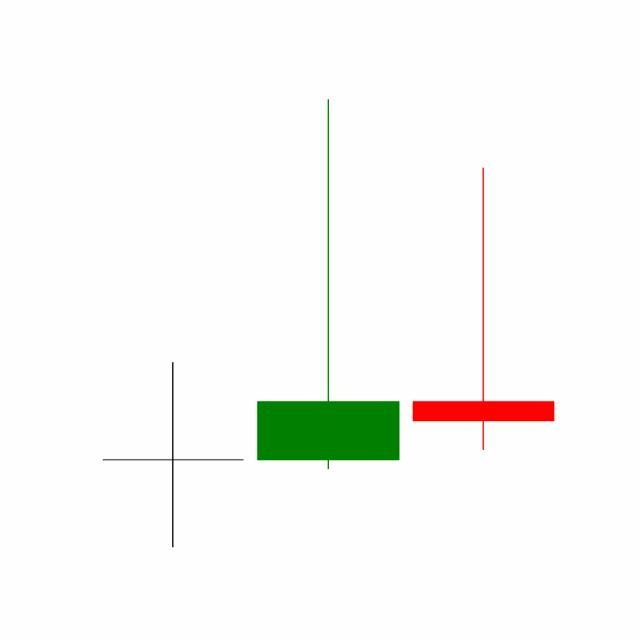Spinning Top: (406, 165, 562, 454)
